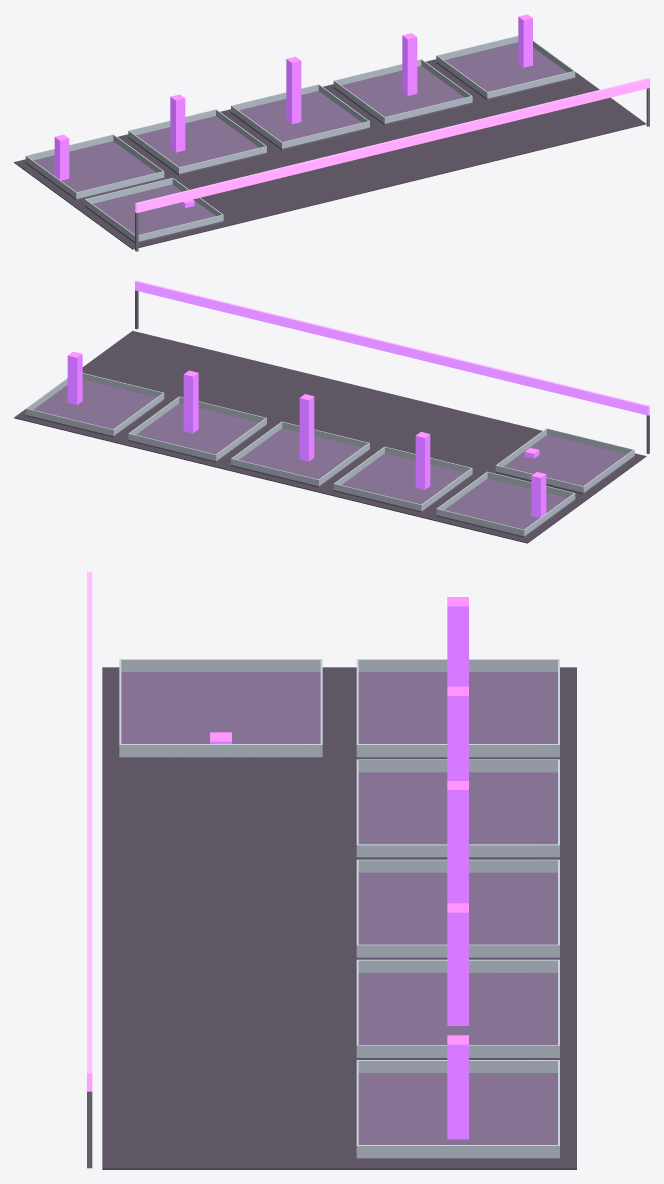
Rendered from pack-health-community.glb.
The picture shows the model from 3 angles, top to bottom: view 1: azimuth 30°, elevation 25°; view 2: azimuth 150°, elevation 25°; view 3: azimuth 270°, elevation 25°; orthographic projection. The views are drawn at different scales.
Visible parts, largest first — view 1: Health & Community; view 2: Health & Community; view 3: Health & Community.
Boxes of the visible parts, x1,y1,x2,y2 form: Health & Community: (14,14,649,251); Health & Community: (14,280,649,543); Health & Community: (87,572,576,1169).
Size of the model in its own units: 70 by 8.3 by 28.9.
